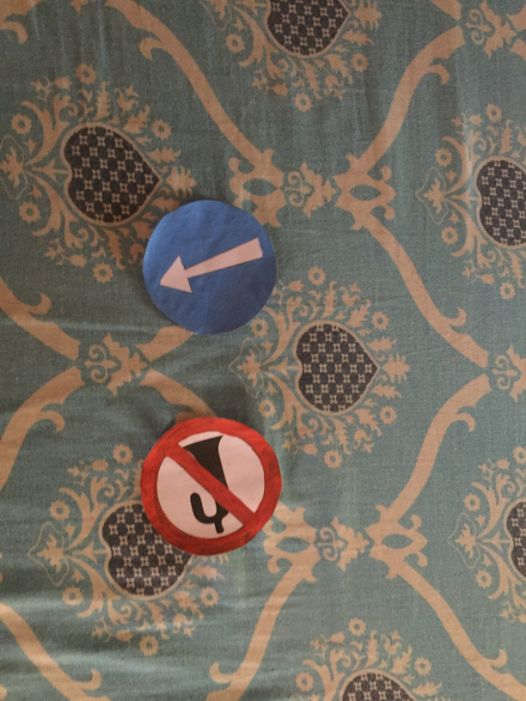keep-left: (138, 197, 280, 338)
no-horn: (141, 415, 296, 554)
